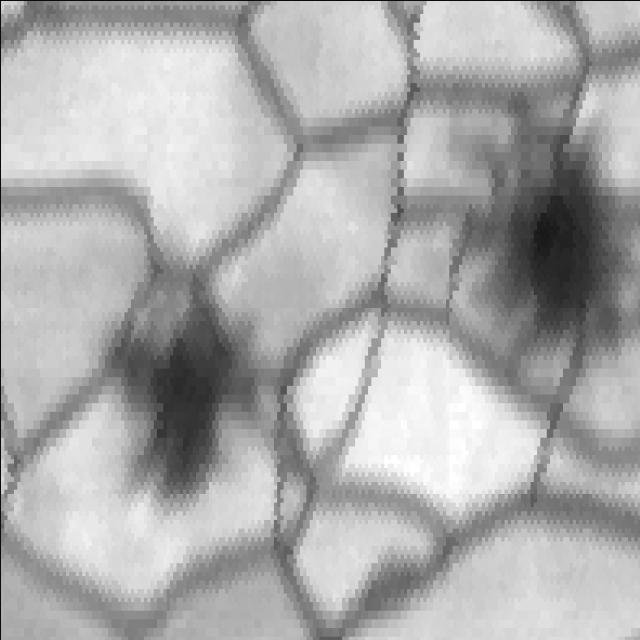good_void: (31, 259, 280, 531), (401, 87, 635, 372), (342, 538, 444, 636)
